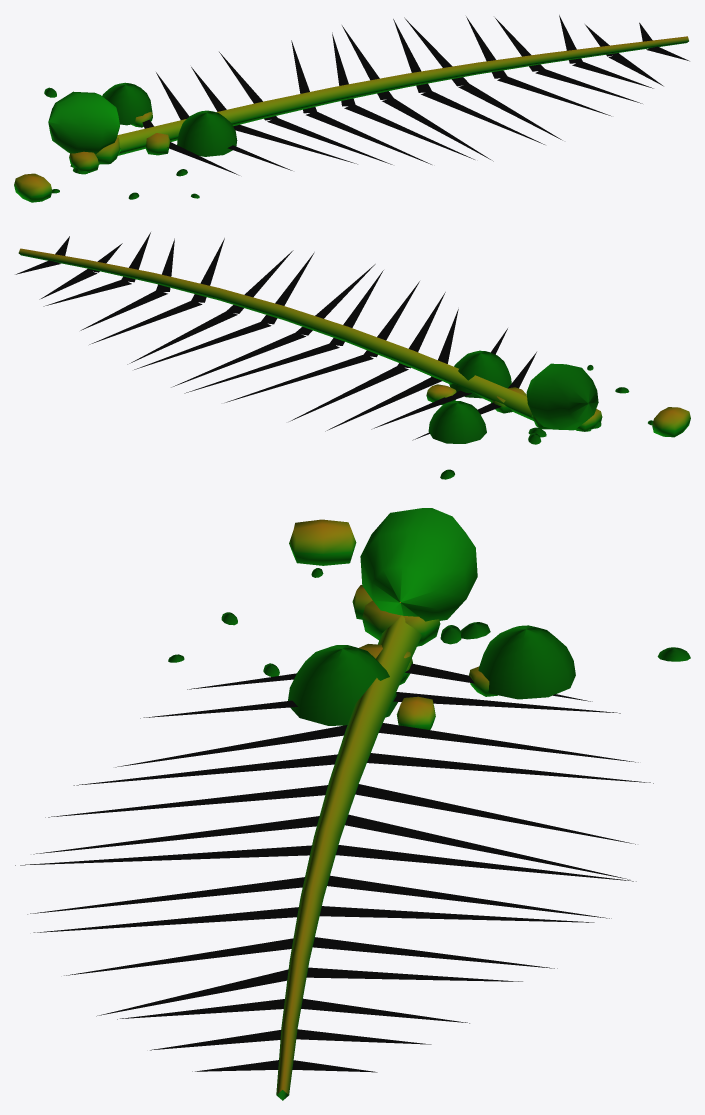
File: village_litter.glb
3 renders of one model, top to bottom at view 1: azimuth 30°, elevation 25°; view 2: azimuth 150°, elevation 25°; view 3: azimuth 270°, elevation 25°, orthographic. The views are drawn at different scales.
Parts seen in each view (by area): view 1: frond_dry, coconut_husk, pebble_cluster, shell_scatter; view 2: frond_dry, coconut_husk, pebble_cluster, shell_scatter; view 3: frond_dry, coconut_husk, pebble_cluster, shell_scatter.
Part boxes in pixels (x1=…): frond_dry: x1=117, y1=15, x2=689, y2=175; coconut_husk: x1=48, y1=82, x2=237, y2=156; pebble_cluster: x1=14, y1=112, x2=170, y2=202; shell_scatter: x1=44, y1=87, x2=199, y2=199; frond_dry: x1=15, y1=232, x2=536, y2=440; coconut_husk: x1=428, y1=350, x2=598, y2=443; pebble_cluster: x1=426, y1=384, x2=690, y2=437; shell_scatter: x1=440, y1=365, x2=653, y2=479; frond_dry: x1=15, y1=615, x2=653, y2=1100; coconut_husk: x1=288, y1=508, x2=575, y2=725; pebble_cluster: x1=289, y1=519, x2=497, y2=729; shell_scatter: x1=168, y1=568, x2=690, y2=676.
Size of what is drawn, in the model's own units: 2.69 by 0.2592 by 1.37.
